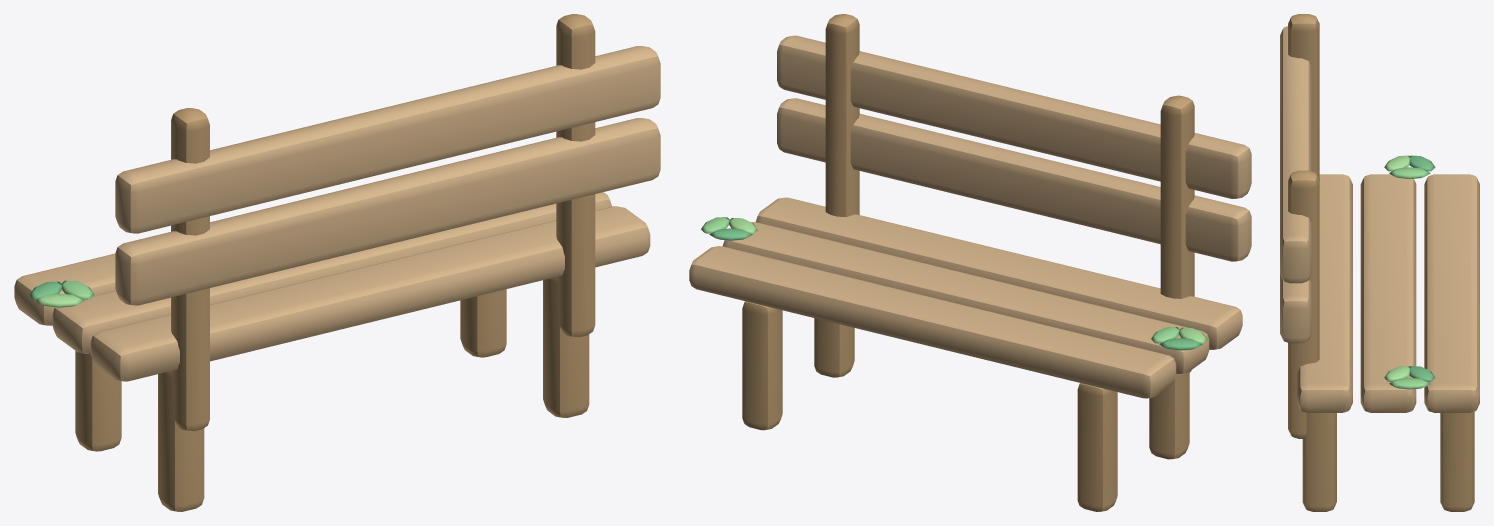
File: bench_summer_v1.glb
3 views of the same model, side by side, from view 1: azimuth 30°, elevation 25°; view 2: azimuth 150°, elevation 25°; view 3: azimuth 270°, elevation 25° (orthographic). The views are drawn at different scales.
Parts seen in each view (by area): view 1: Base_BackSlat (×2), Base_SeatSlat (×3), Base_Leg (×4), Base_BackSupport (×2); view 2: Base_SeatSlat (×3), Base_BackSlat (×2), Base_Leg (×4), Base_BackSupport (×2), Season_LeafSprig (×2); view 3: Base_SeatSlat (×3), Base_BackSlat (×2), Base_Leg (×2), Base_BackSupport (×2), Season_LeafSprig (×3).
Part boxes in pixels (box(x1,y1,x2,y2)): Base_BackSlat (×2): box(115, 46, 660, 305); Base_SeatSlat (×3): box(14, 192, 650, 381); Base_Leg (×4): box(75, 277, 589, 511); Base_BackSupport (×2): box(171, 14, 595, 431); Base_SeatSlat (×3): box(689, 197, 1242, 398); Base_BackSlat (×2): box(777, 35, 1251, 261); Base_Leg (×4): box(742, 301, 1189, 511); Base_BackSupport (×2): box(825, 14, 1194, 372); Season_LeafSprig (×2): box(701, 217, 1202, 350); Base_SeatSlat (×3): box(1297, 174, 1479, 412); Base_BackSlat (×2): box(1280, 26, 1311, 343); Base_Leg (×2): box(1302, 411, 1474, 511); Base_BackSupport (×2): box(1288, 14, 1319, 438); Season_LeafSprig (×3): box(1384, 155, 1435, 389).
Size of the model in its own units: 2.08 by 1.4 by 0.755.
